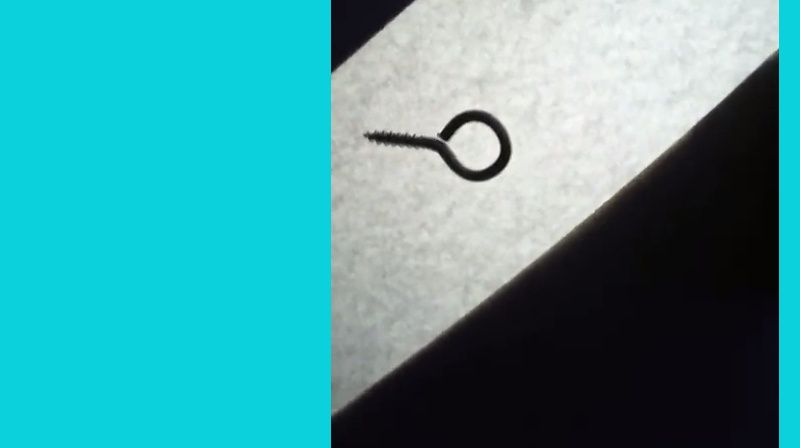O001: (362, 103, 515, 185)
